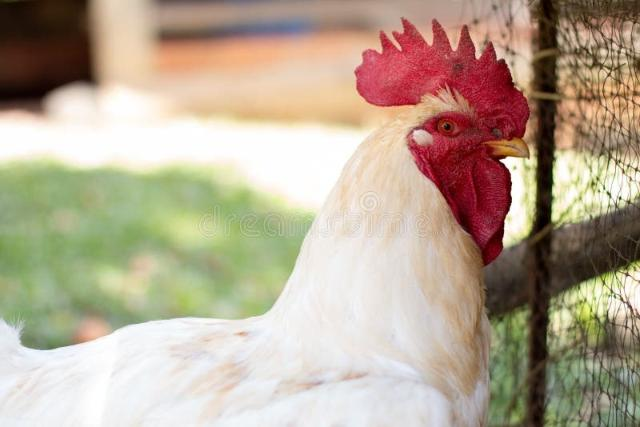Chicken: (0, 17, 530, 427)
